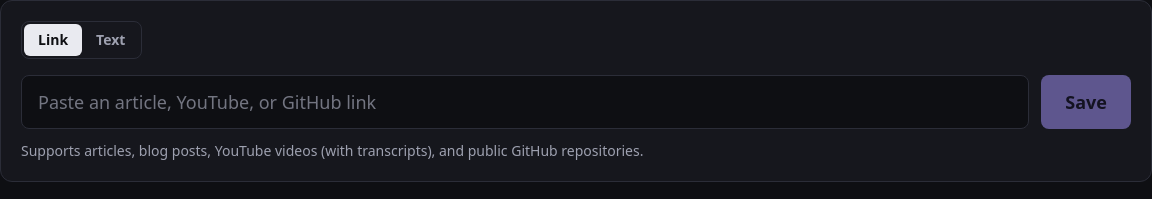
Test: saving a link › shows progress and blocks a second click while saving
The width and height of the screenshot is (1152, 199).
Step 1. Type "https://example.com/slow" into the field named "Link to save" → (525, 102), box top-left (21, 75), bottom-right (1029, 129)
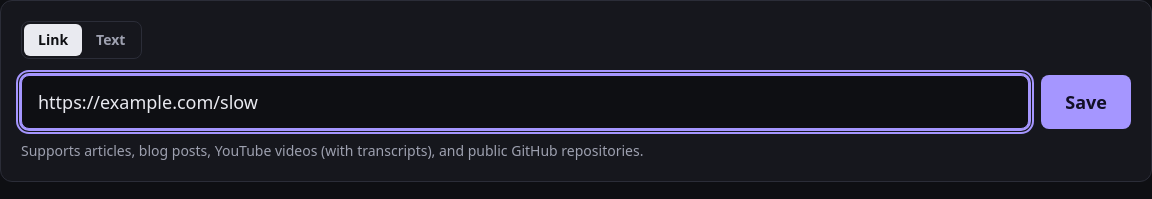
Step 2. Click the button "Save" → click(1086, 102), box top-left (1041, 75), bottom-right (1131, 129)
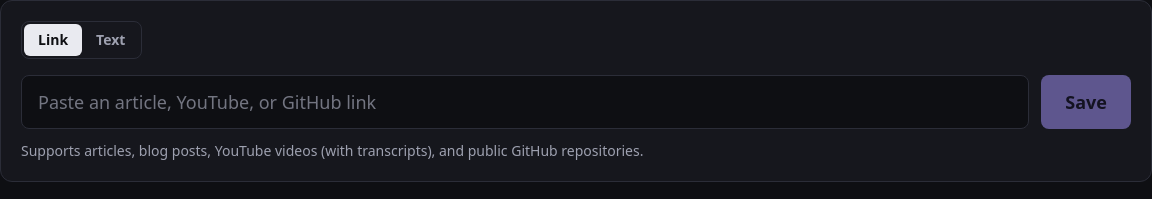
Expected: the button named "Saving…" is disabled, top-left (1041, 75), bottom-right (1131, 129)
Expected: the button "Save" is disabled, top-left (1041, 75), bottom-right (1131, 129)
